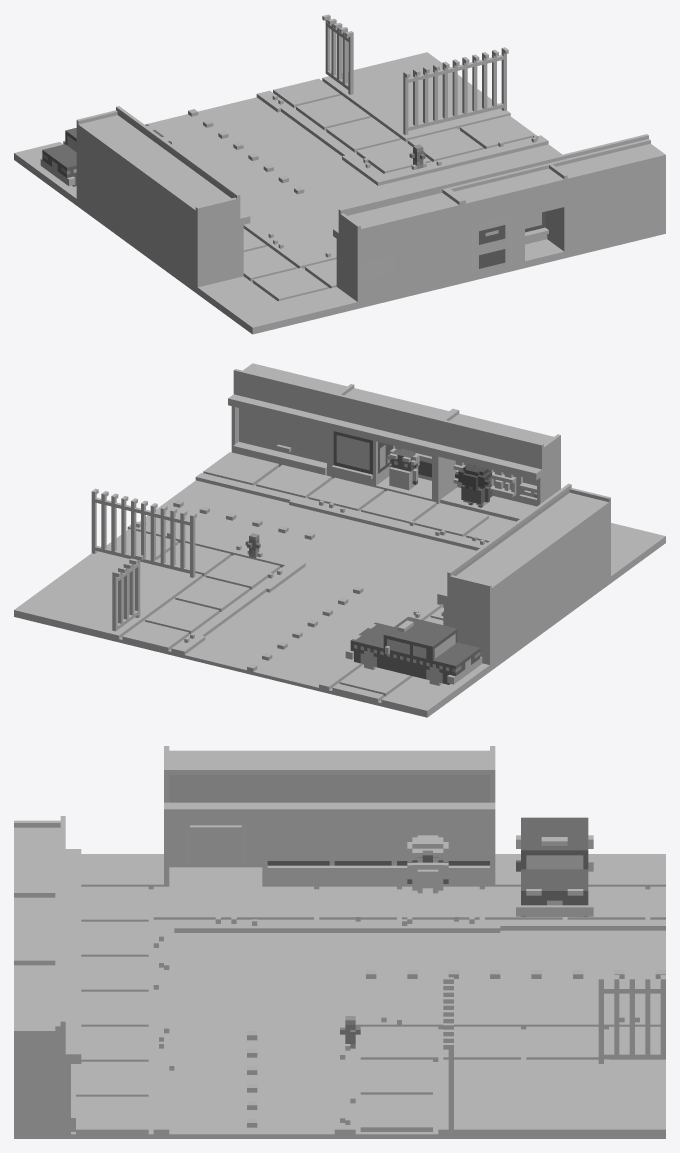
File: scene_store5.obj
3 views of the same model, one above another, from view 1: azimuth 30°, elevation 25°; view 2: azimuth 150°, elevation 25°; view 3: azimuth 270°, elevation 25° (orthographic). The views are drawn at different scales.
Bounding box in the file's own units: 126 × 26 × 126.
